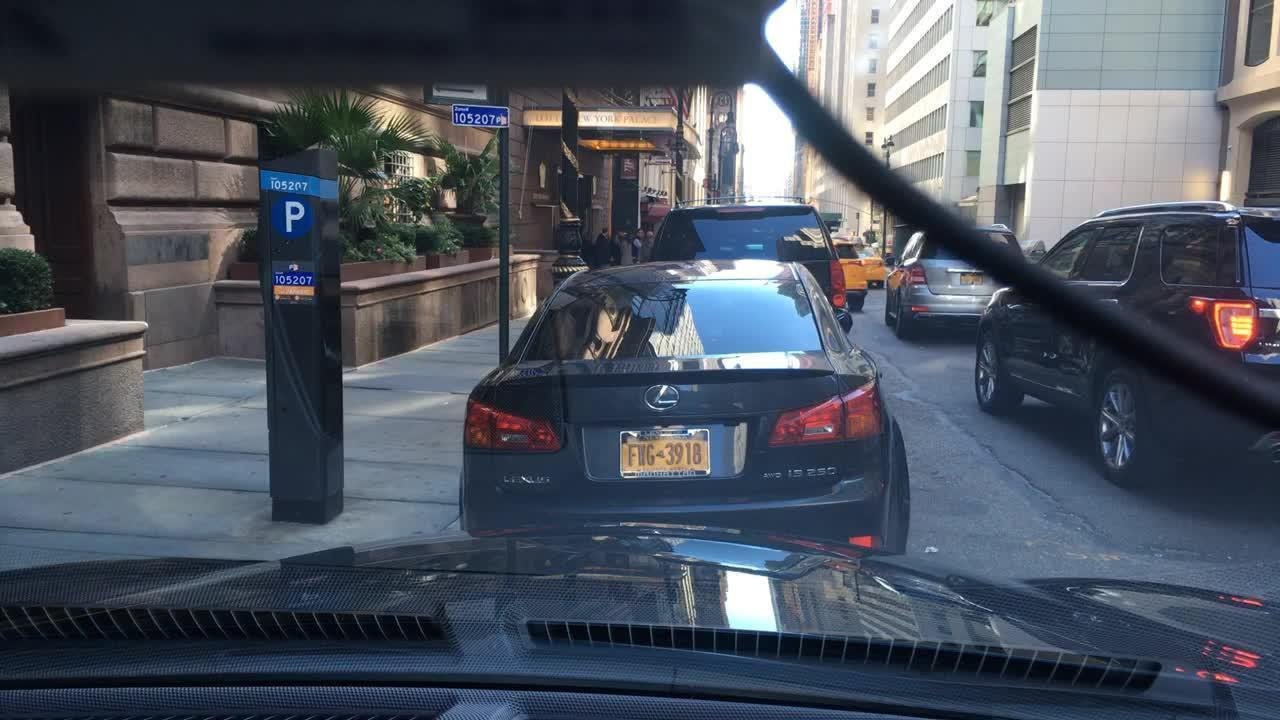lexus: (625, 378, 697, 423)
